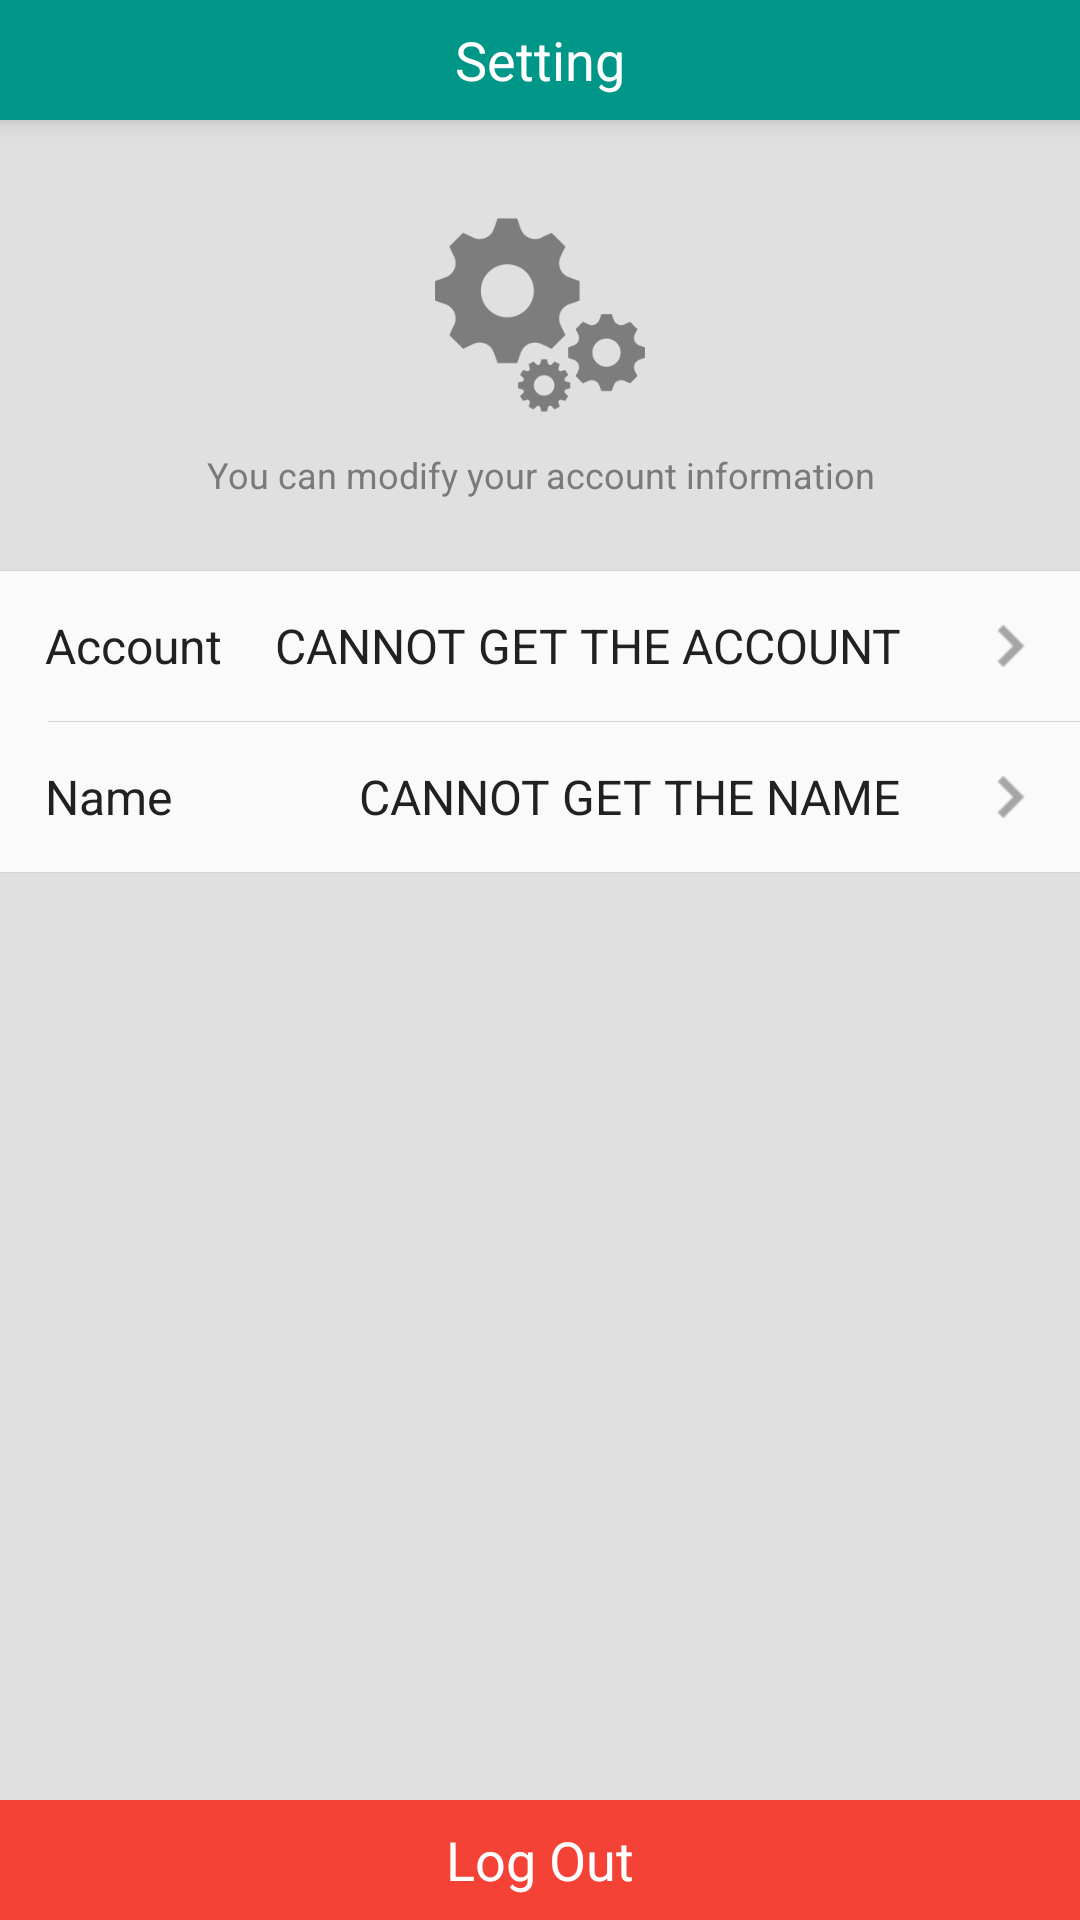

Locate icon controls on the screen. Image size 1080 x 1920, boxes as rect(x1, y1, x2, y2).
arrow right: rect(998, 625, 1024, 667), rect(998, 776, 1024, 818)
gear: rect(435, 218, 645, 412)
